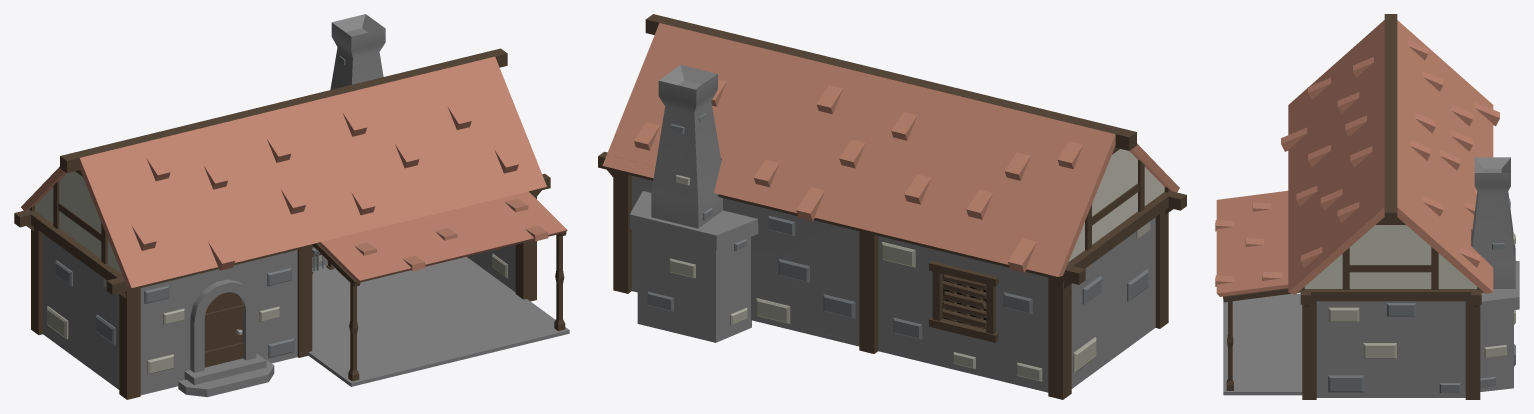
Rendered from BlacksmithDoneTriangulated.fbx.
3 renders of one model, left to right at view 1: azimuth 30°, elevation 25°; view 2: azimuth 150°, elevation 25°; view 3: azimuth 270°, elevation 25°, orthographic. The views are drawn at different scales.
Parts seen in each view (by area): view 1: BlacksmithDoneTriangulated; view 2: BlacksmithDoneTriangulated; view 3: BlacksmithDoneTriangulated.
Boxes of the visible parts, x1,y1,x2,y2 form: BlacksmithDoneTriangulated: (14, 14, 569, 399); BlacksmithDoneTriangulated: (598, 14, 1186, 399); BlacksmithDoneTriangulated: (1215, 14, 1519, 399).
Bounding box in the file's own units: 34.02 × 16.57 × 22.03.
Materials: 1 (1 with a texture image).
